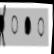correct: (22, 14, 32, 37)
not correct: (0, 1, 8, 49)
